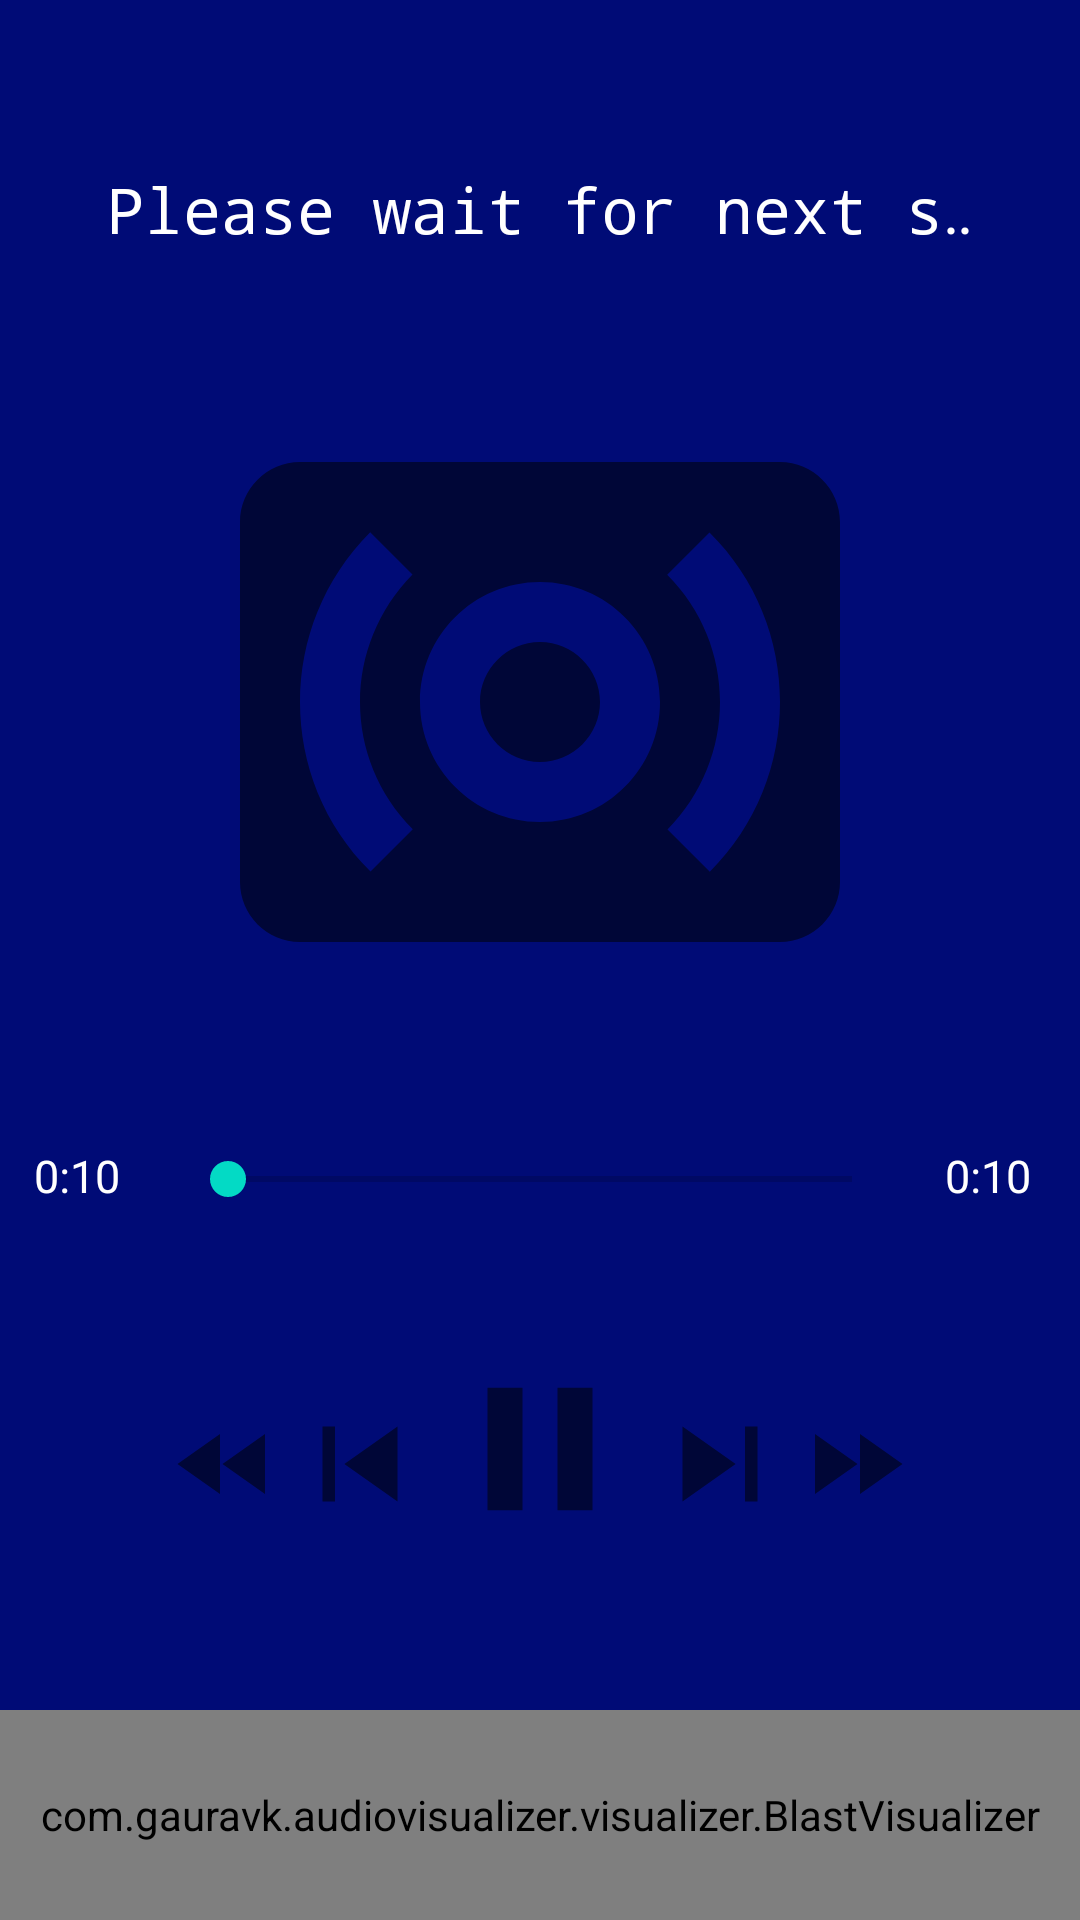

Point at icon controls on the screen. Image size 1080px x 1920px, points as point (x, y).
forward: point (858, 1464)
next: point (720, 1464)
pause: point (540, 1449)
previous: point (360, 1464)
rewind: point (221, 1464)
